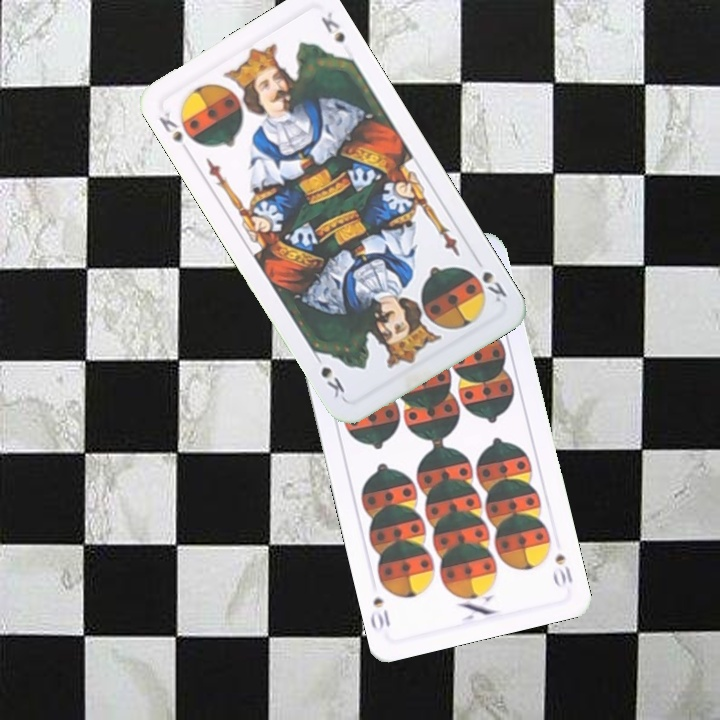S10: (549, 550, 575, 590)
SK: (154, 108, 194, 158), (478, 267, 510, 305)
